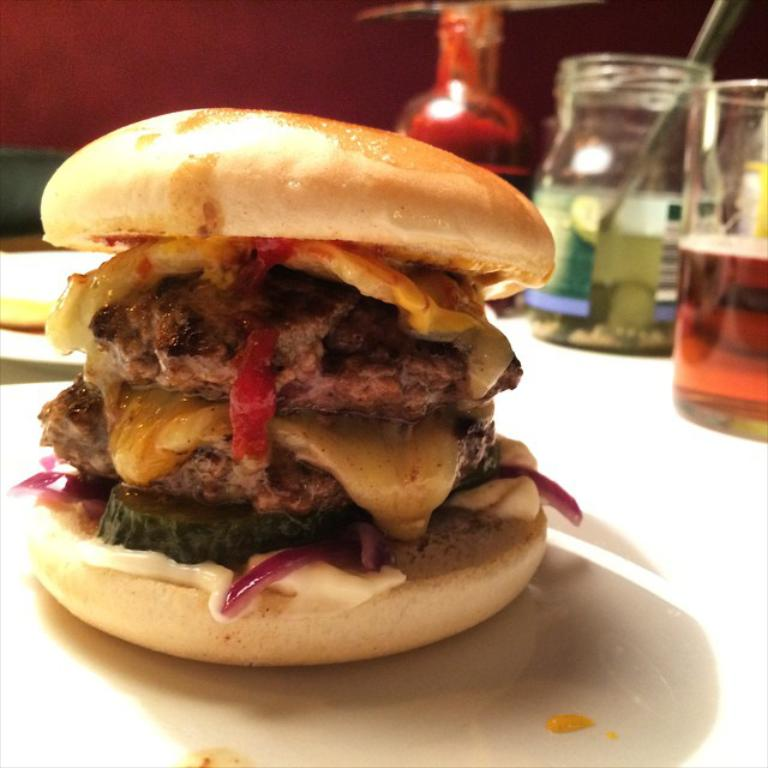Hamburger: (0, 106, 584, 668)
